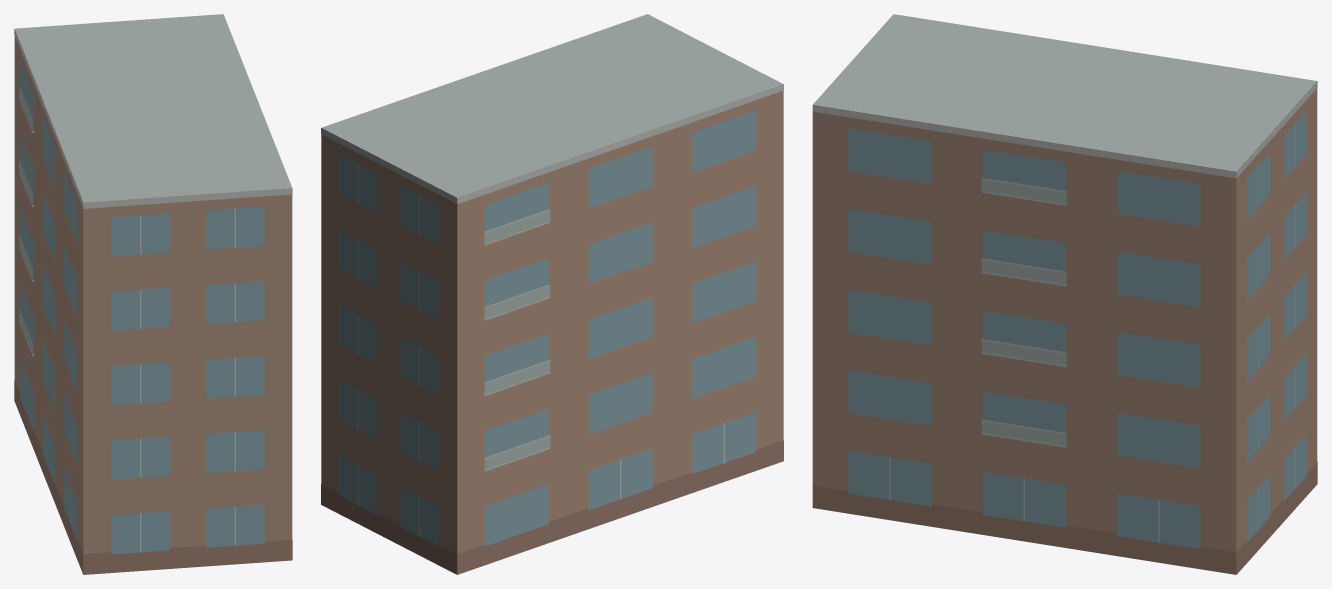
The model's file is survey-upis-33023481.glb.
The picture shows the model from 3 angles, left to right: view 1: azimuth 30°, elevation 25°; view 2: azimuth 150°, elevation 25°; view 3: azimuth 270°, elevation 25°; orthographic projection. The views are drawn at different scales.
Visible parts, largest first — view 1: survey-upis-33023481.tmp; view 2: survey-upis-33023481.tmp; view 3: survey-upis-33023481.tmp.
Part boxes in pixels (left/top/right/bottom): survey-upis-33023481.tmp: left=14, top=14, right=292, bottom=574; survey-upis-33023481.tmp: left=321, top=14, right=783, bottom=574; survey-upis-33023481.tmp: left=812, top=14, right=1317, bottom=574.
Bounding box in the file's own units: 12.13 × 14.45 × 16.41.
